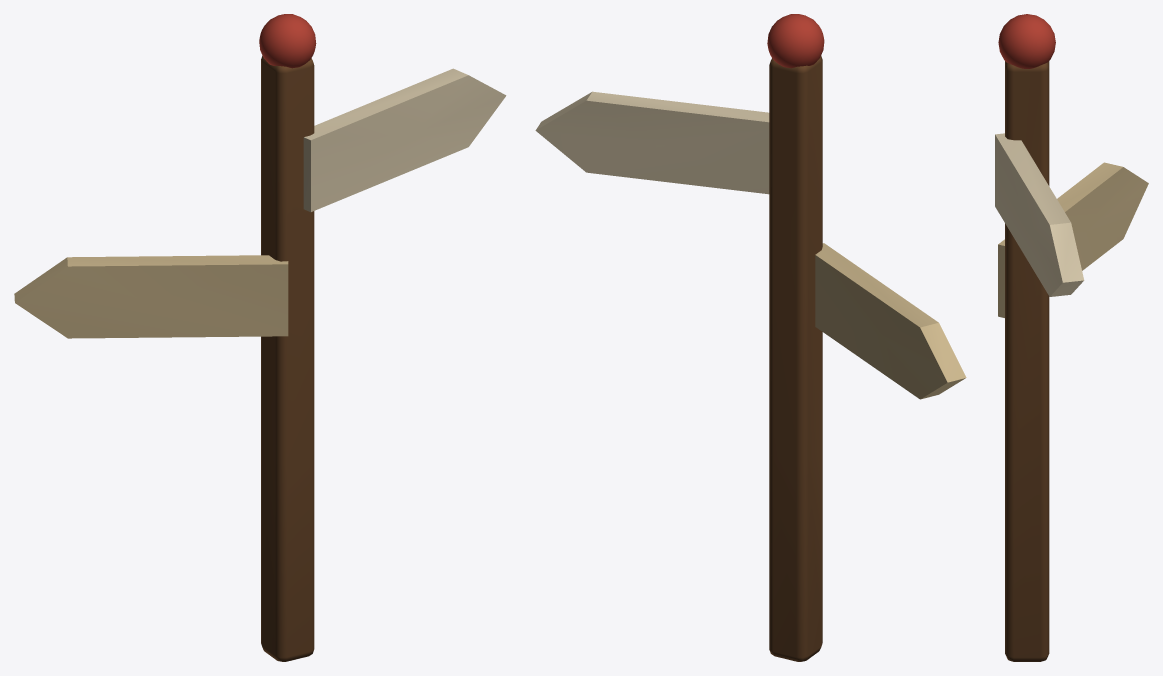
Rendered from signpost_trail.glb.
3 views of the same model, side by side, from view 1: azimuth 30°, elevation 25°; view 2: azimuth 150°, elevation 25°; view 3: azimuth 270°, elevation 25° (orthographic).
Visible parts, largest first — view 1: signpost_trail_main; view 2: signpost_trail_main; view 3: signpost_trail_main.
Boxes of the visible parts, left/top/right/bottom form: signpost_trail_main: left=14, top=14, right=506, bottom=661; signpost_trail_main: left=535, top=14, right=966, bottom=661; signpost_trail_main: left=995, top=14, right=1148, bottom=661.
Bounding box in the file's own units: 1.2 × 1.6 × 0.348.
